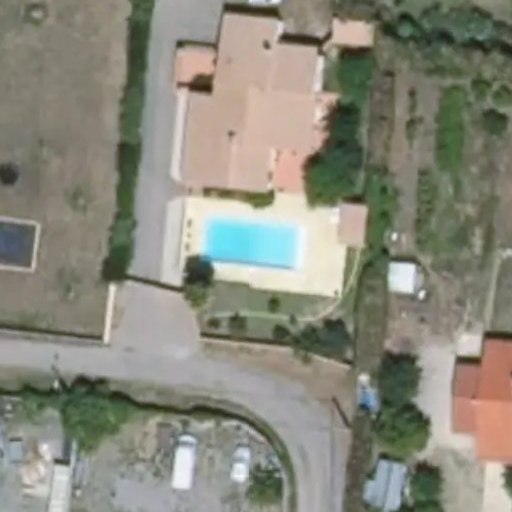pool: (201, 216, 303, 267)
